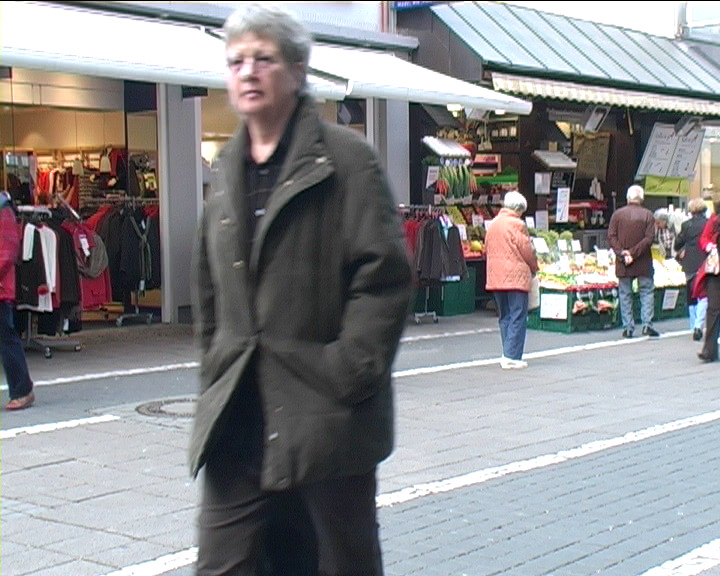undeflect: (216, 26, 393, 187)
